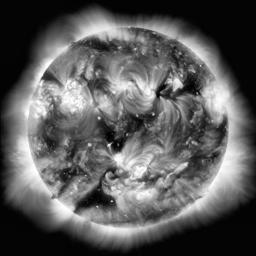solar flares: (109, 183, 155, 210), (55, 82, 88, 119), (203, 85, 225, 123), (135, 78, 157, 102), (104, 73, 128, 94), (94, 95, 117, 114), (37, 92, 50, 123), (112, 153, 128, 169), (132, 163, 146, 180)
sunspots: (82, 182, 109, 206), (87, 41, 125, 57), (100, 124, 120, 147), (128, 113, 151, 131), (47, 133, 64, 150), (182, 77, 197, 96), (159, 84, 172, 98), (59, 166, 81, 174), (191, 153, 202, 167), (69, 145, 78, 158)
